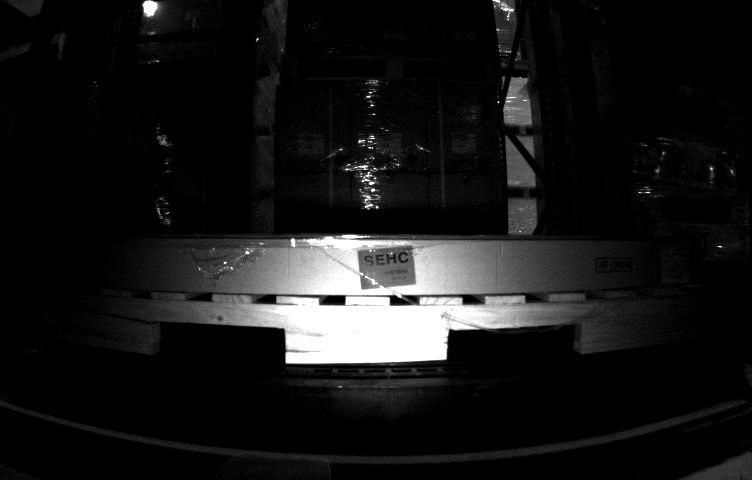True Barcode: (660, 246, 693, 283)
